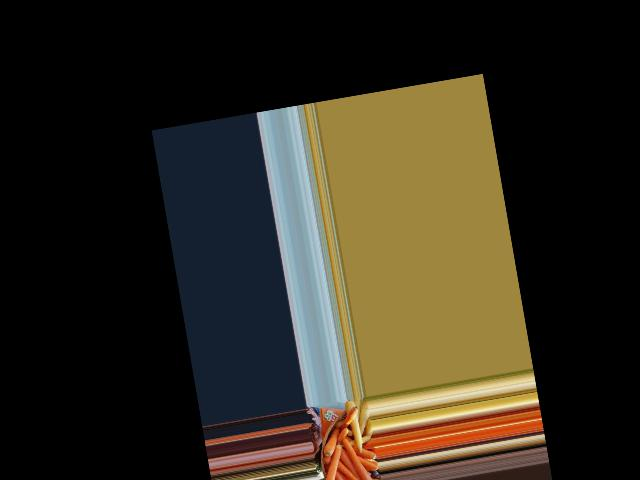carrot: (317, 423, 342, 455)
